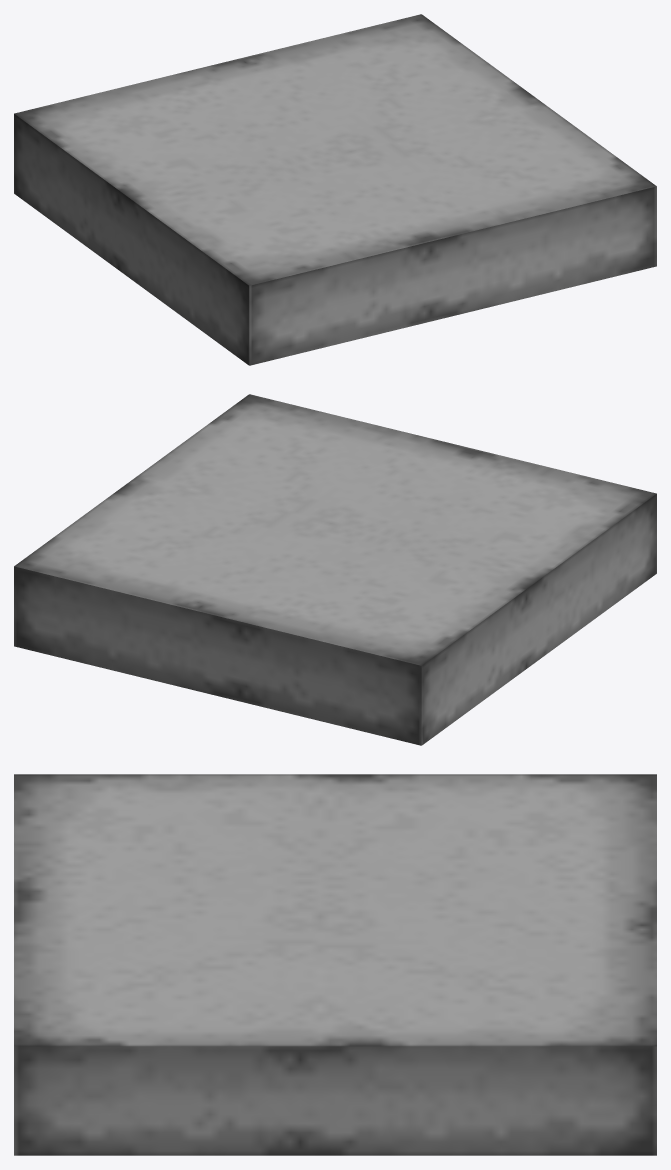
File: Housecurbflat.fbx
3 renders of one model, top to bottom at view 1: azimuth 30°, elevation 25°; view 2: azimuth 150°, elevation 25°; view 3: azimuth 270°, elevation 25°, orthographic. The views are drawn at different scales.
Visible parts, largest first — view 1: plane; view 2: plane; view 3: plane.
Boxes of the visible parts, <box> form: plane: <box>14,14,656,365</box>; plane: <box>14,394,656,745</box>; plane: <box>14,774,656,1155</box>.
Size of the model in its own units: 100 by 18.75 by 100.
Materials: 1 (1 with a texture image).
